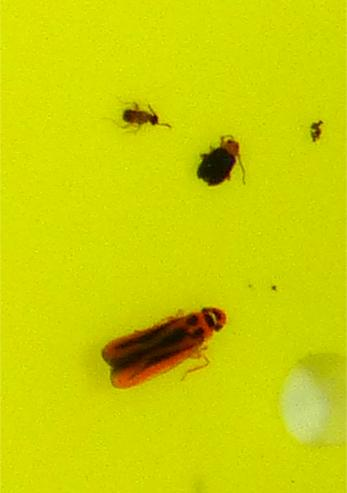Coleoptera: (192, 138, 247, 193), (122, 100, 161, 133)
Hemiptera: (100, 300, 231, 393)
